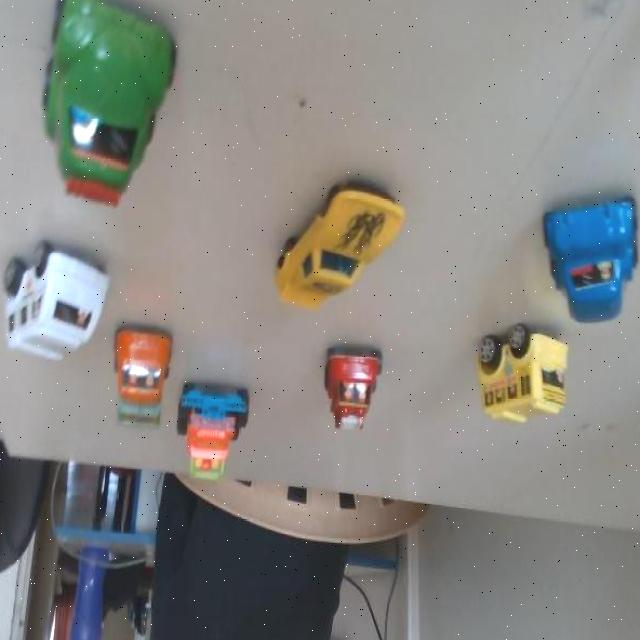car: (18, 18, 170, 199), (260, 176, 408, 314), (0, 224, 115, 377), (541, 192, 640, 326), (465, 318, 559, 425), (306, 328, 387, 443), (178, 382, 263, 490), (106, 322, 174, 441)
